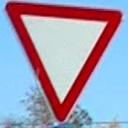preferencia: (4, 0, 125, 124)
